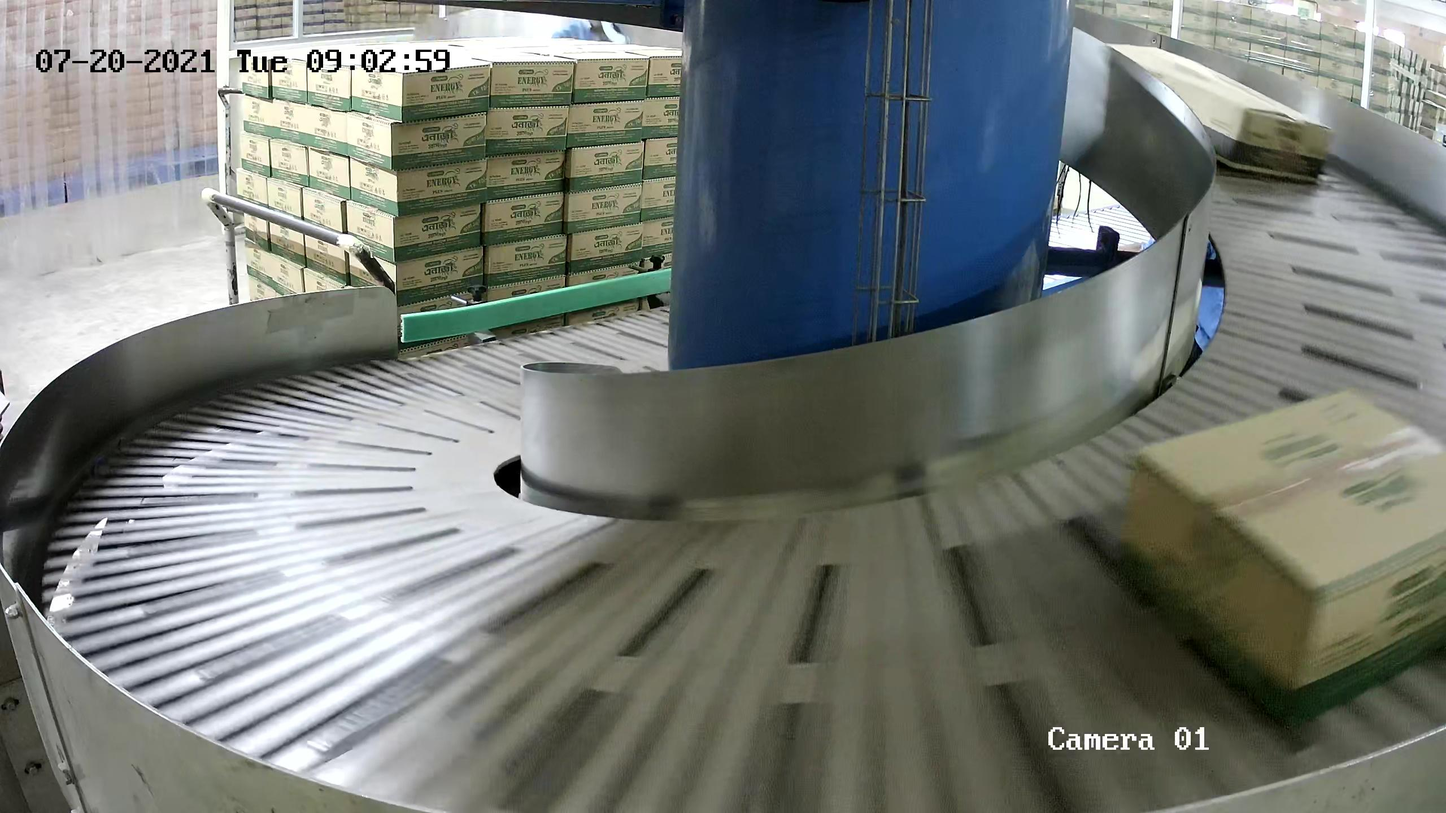Box: (1116, 385, 1446, 742), (1093, 41, 1335, 196)
